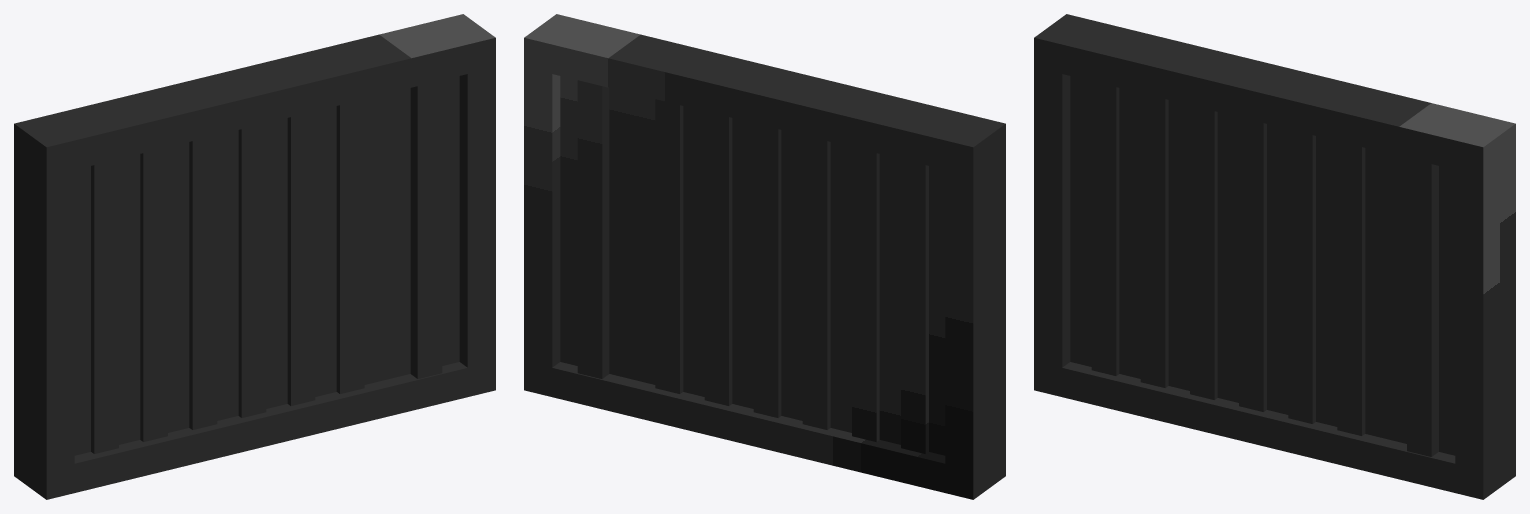
File: vent 1.fbx
The picture shows the model from 3 angles, left to right: view 1: azimuth 30°, elevation 25°; view 2: azimuth 150°, elevation 25°; view 3: azimuth 330°, elevation 25°; orthographic projection.
Visible parts, largest first — view 1: cube; view 2: cube; view 3: cube.
Boxes of the visible parts, <box> form: cube: <box>14,14,495,499</box>; cube: <box>524,14,1005,499</box>; cube: <box>1034,14,1515,499</box>.
Size of the model in its own units: 100 by 75 by 12.5.
1 material, 1 textured.
